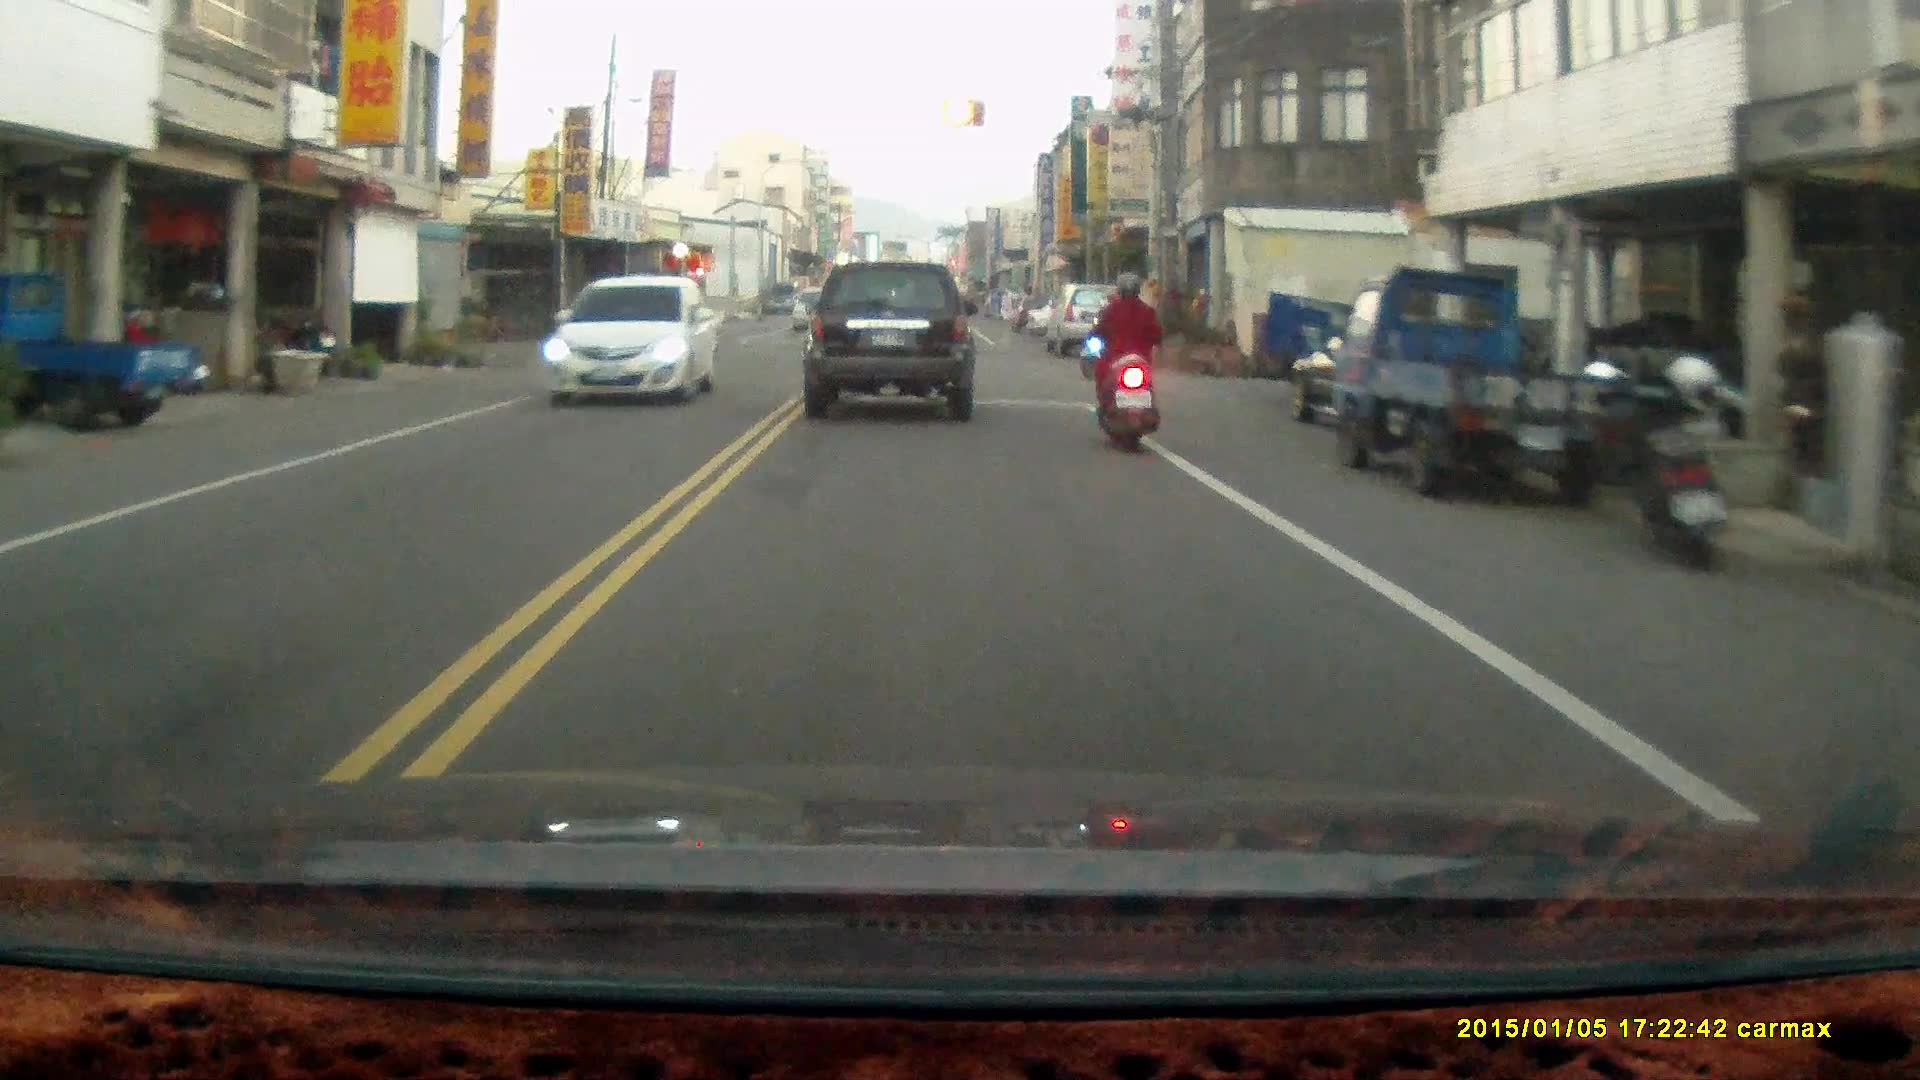rider: (1091, 266, 1161, 454)
vehicle: (1328, 261, 1636, 505), (1, 267, 221, 426), (800, 259, 981, 426), (544, 276, 722, 408), (1290, 329, 1491, 434), (1044, 277, 1138, 356)
